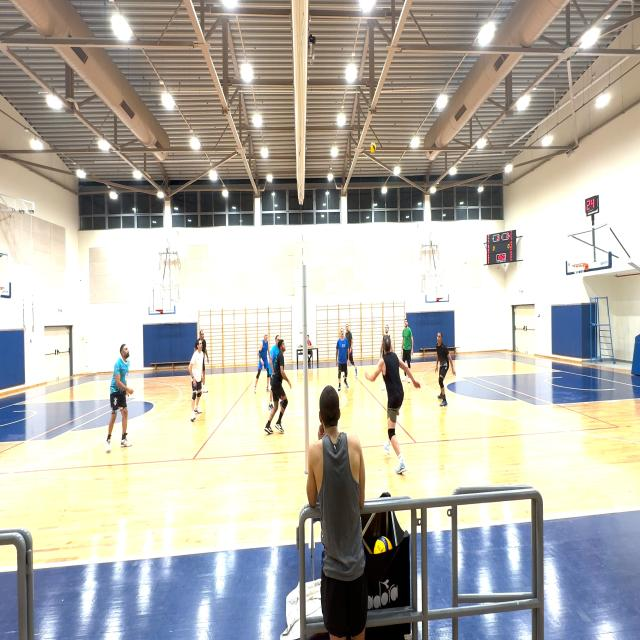volleyball: (370, 142, 376, 153)
